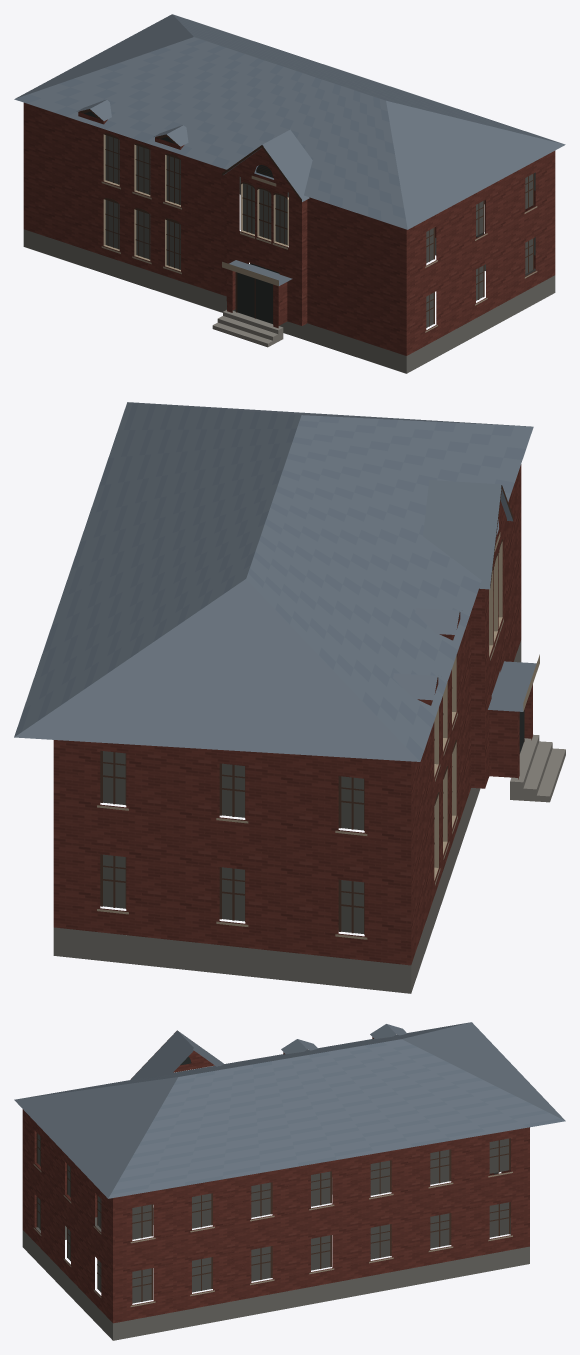
3 renders of one model, top to bottom at view 1: azimuth 30°, elevation 25°; view 2: azimuth 150°, elevation 25°; view 3: azimuth 270°, elevation 25°, orthographic. The views are drawn at different scales.
Visible parts, largest first — view 1: adams__brick, adams__roof, adams__slate, adams__stone, adams__glass, adams__frame, adams__trim, adams__door, adams__stair; view 2: adams__roof, adams__brick, adams__slate, adams__stone, adams__glass, adams__trim, adams__frame, adams__stair; view 3: adams__brick, adams__roof, adams__slate, adams__stone, adams__glass, adams__frame, adams__trim.
Boxes of the visible parts, x1,y1,x2,y2 form: adams__brick: (23,102,555,355); adams__roof: (15,14,565,285); adams__slate: (14,14,557,220); adams__stone: (23,177,555,373); adams__glass: (105,135,535,327); adams__frame: (79,109,533,326); adams__trim: (101,134,537,332); adams__door: (84,111,279,323); adams__stair: (212,310,283,347); adams__roof: (14,402,536,761); adams__brick: (53,464,532,965); adams__slate: (14,402,525,761); adams__stone: (53,640,521,993); adams__glass: (103,751,363,933); adams__trim: (97,532,539,939); adams__frame: (100,485,524,934); adams__stair: (510,734,565,802); adams__brick: (22,1037,529,1323); adams__roof: (14,1022,565,1198); adams__slate: (30,1022,565,1194); adams__stone: (22,1177,529,1340); adams__glass: (37,1134,508,1303); adams__frame: (36,1031,510,1301); adams__trim: (33,1164,512,1306).
Bounding box in the file's own units: 21.7 × 11.35 × 28.63.
Materials: 9 (1 with a texture image).
